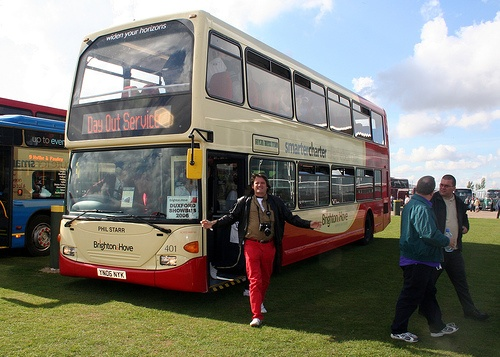head: (409, 173, 438, 204), (251, 174, 271, 199), (439, 173, 459, 198)
person: (200, 172, 317, 324), (389, 174, 459, 341), (432, 174, 484, 320), (101, 163, 129, 200), (225, 179, 237, 208), (473, 196, 480, 212), (494, 196, 499, 217)
